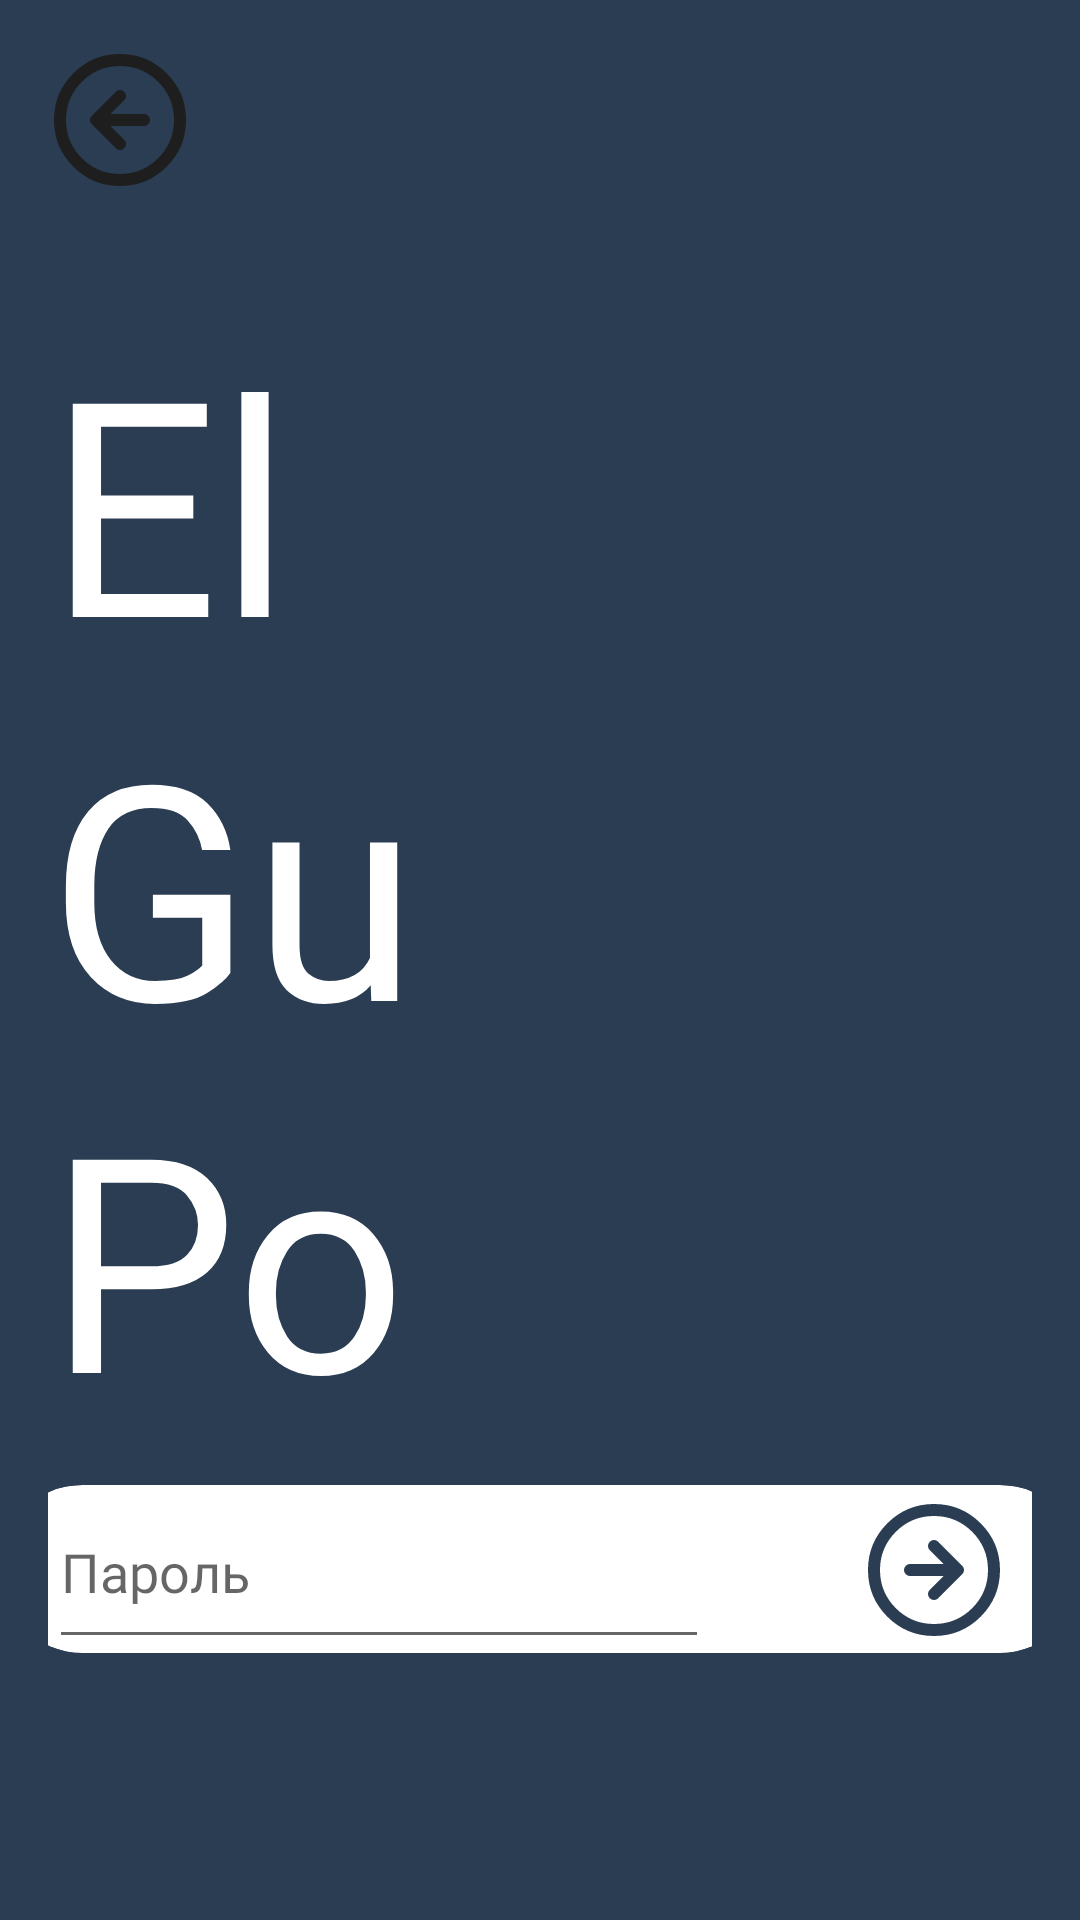

Icon click points for this 1080*1920 phone screenshot, format [x,y]:
arrow left circle: [120,120]
